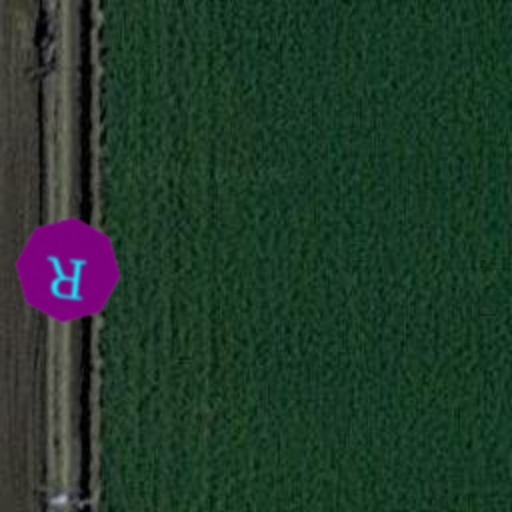octagon: (8, 210, 128, 330)
